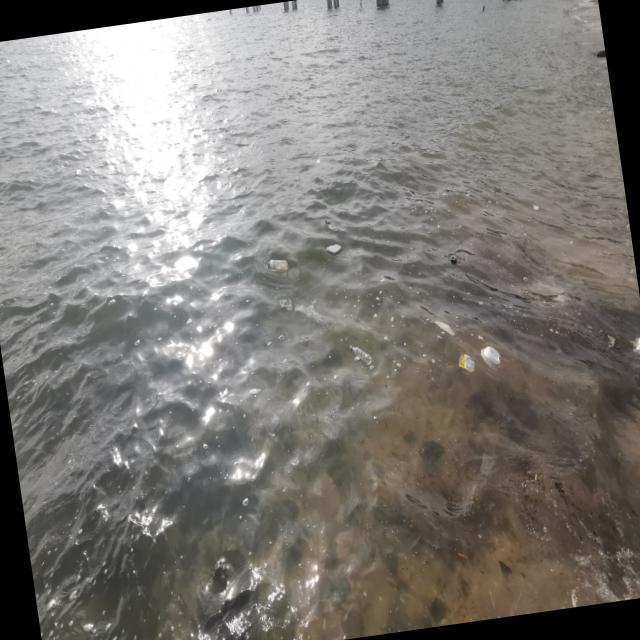can: (451, 255, 458, 264)
foam: (481, 344, 505, 375), (327, 244, 343, 258), (634, 335, 640, 357)
plastic bottle: (350, 342, 375, 367), (267, 258, 290, 275), (326, 219, 340, 235)
